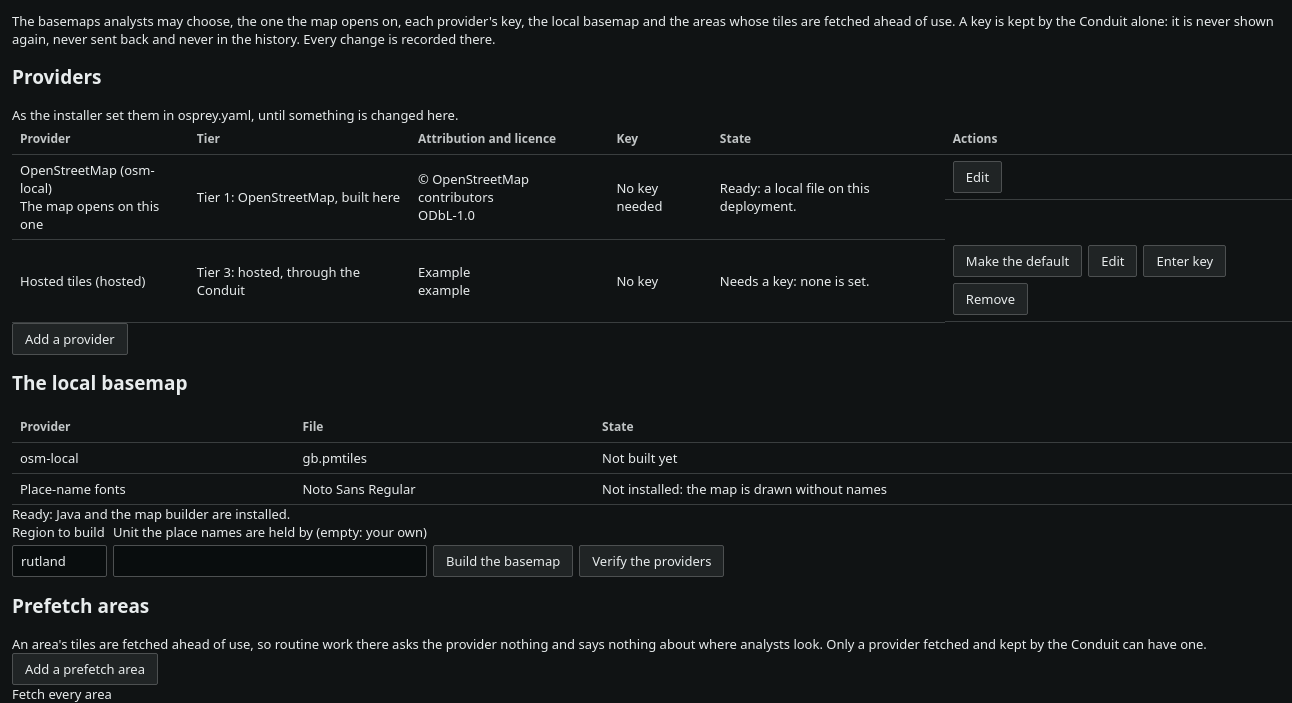
Test case: Maps › sends the key once, clears the field, and never shows it again
Click the button with aria-label "Enter key for Hosted tiles" at point(1185, 261), box x1=1144 y1=245 x2=1226 y2=277
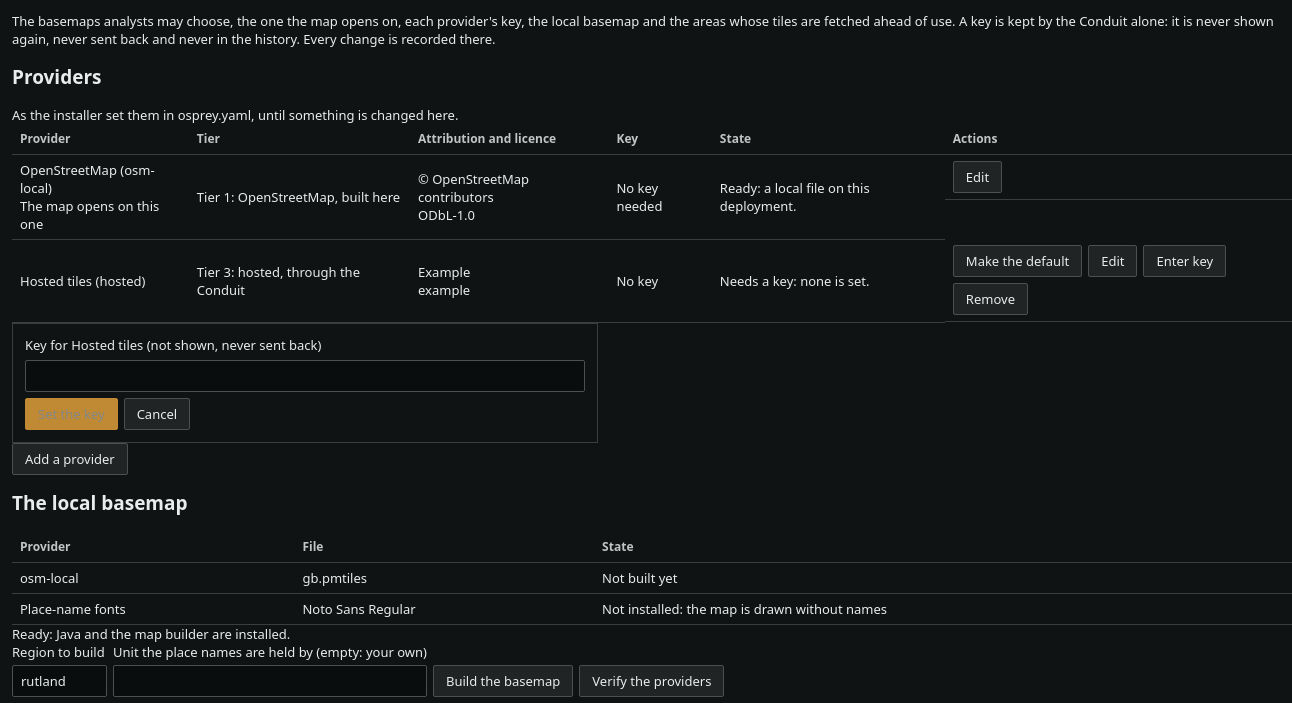
Type "k-PLANTED-glass-map-key-H6J2" into the password field labelled "Key for Hosted tiles (not shown, never sent back)" at point(305, 376), box x1=25 y1=360 x2=585 y2=392
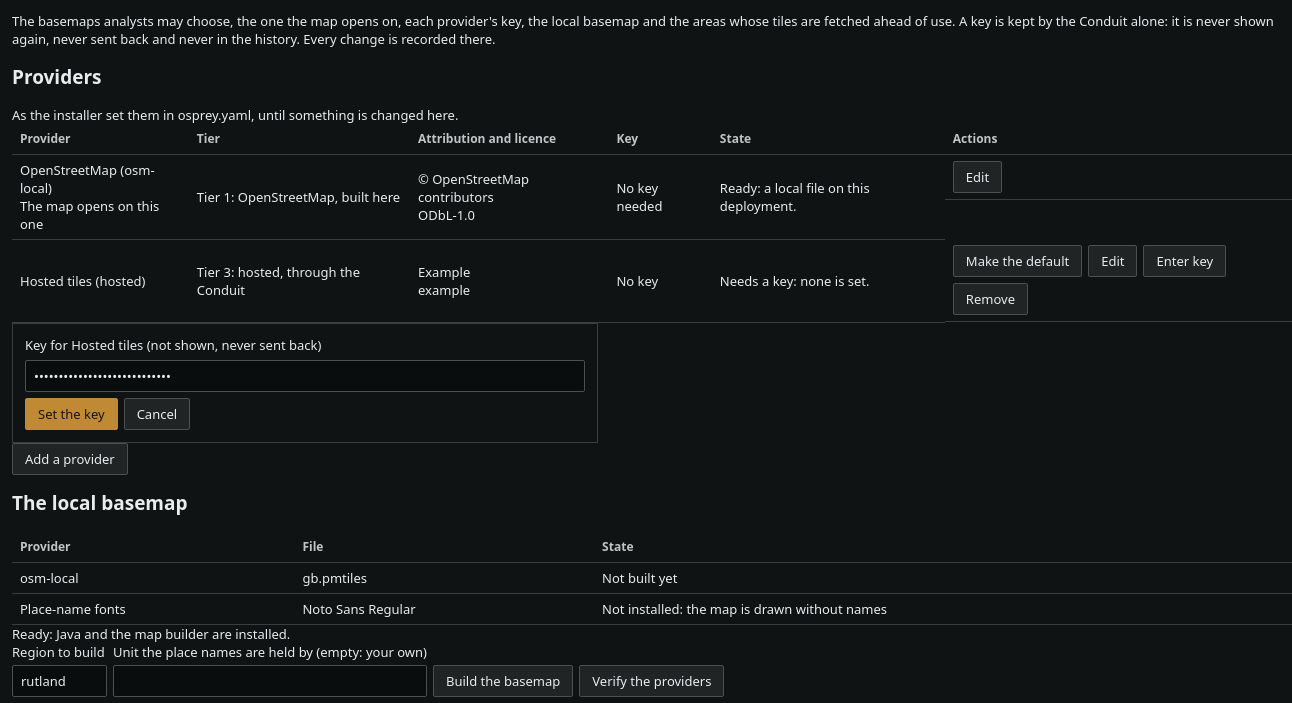
Click the button "Set the key" at point(71, 414), box x1=25 y1=398 x2=118 y2=430
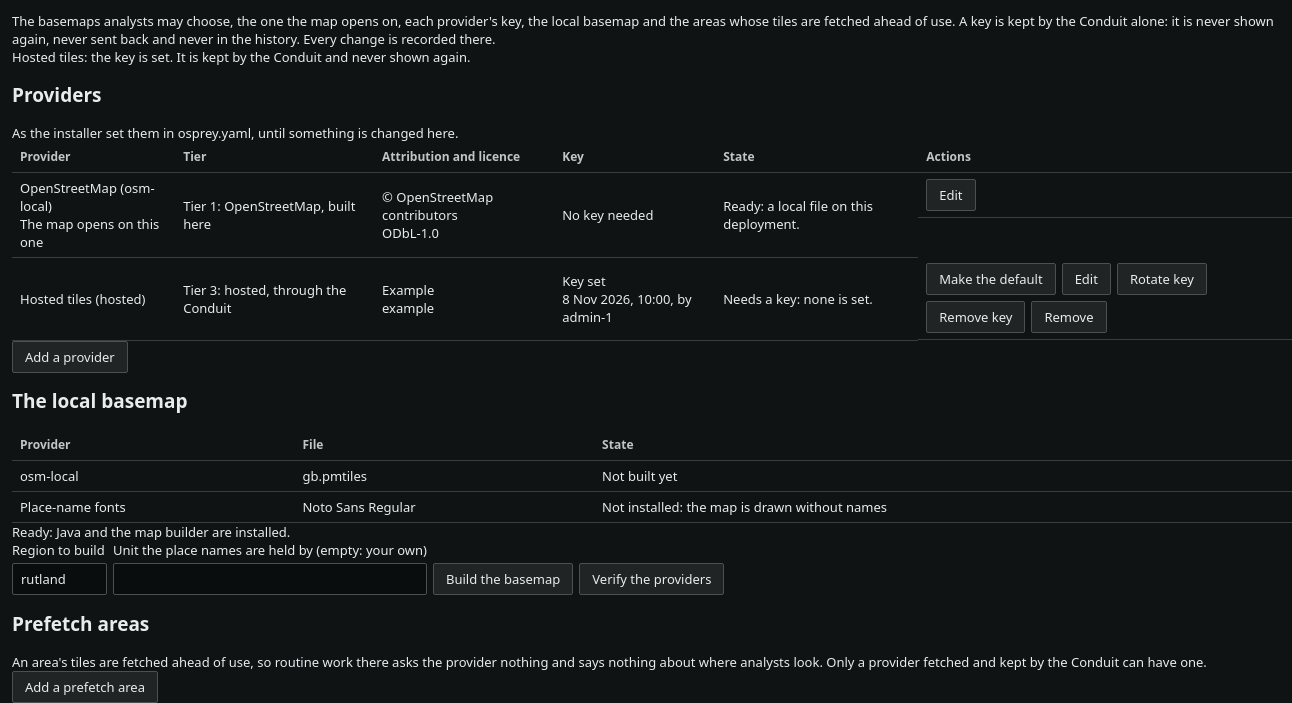
Now the text "the key is set" is shown, box x1=12 y1=48 x2=470 y2=66
Now the table named "Map providers" shows "Key set", box x1=562 y1=272 x2=606 y2=290
